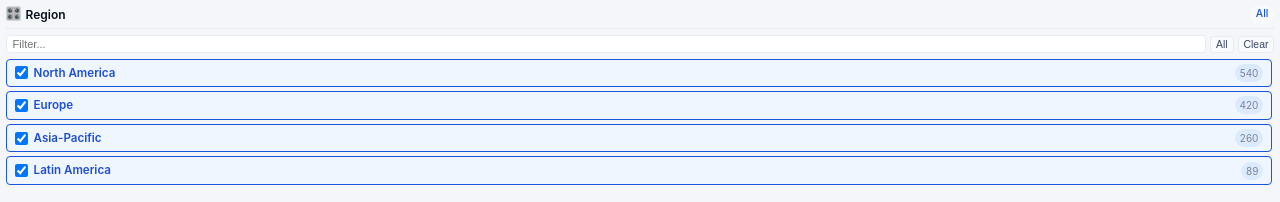
SlicerVisual - Interactive Dimension Filtering & Parity Guardrails › filters items dynamically via search input
Check: the text "North America" is shown, box [34, 64, 115, 82]
Check: the text "Europe" is shown, box [34, 96, 73, 115]
Type "Europe" into the field with test id "slicer-search-input" at (606,44), box [6, 35, 1206, 53]
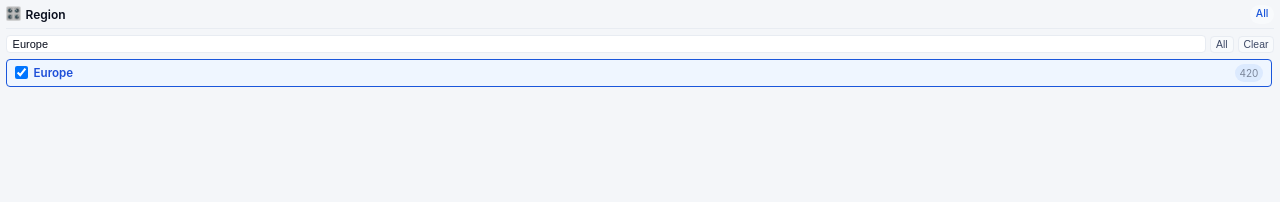
Check: the text "Europe" is shown, box [34, 64, 73, 82]
Check: the checkbox "North America" is gone
